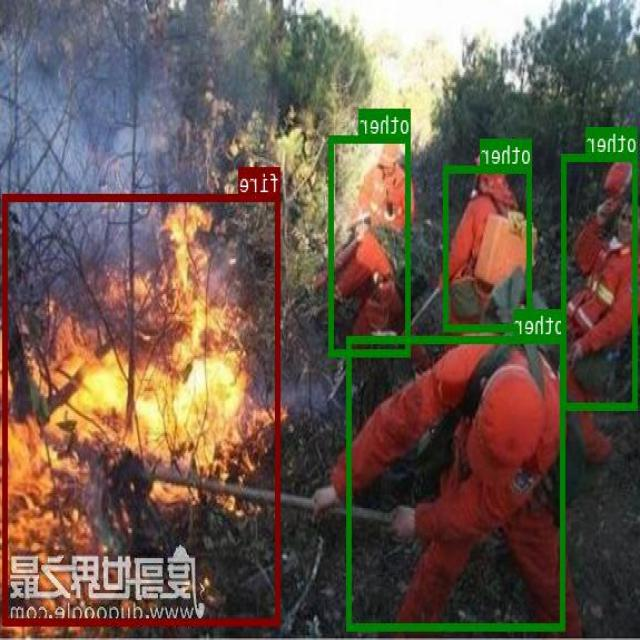fire: (4, 193, 281, 624)
other: (348, 335, 566, 629), (563, 152, 638, 409), (329, 134, 412, 355), (445, 166, 533, 330)
